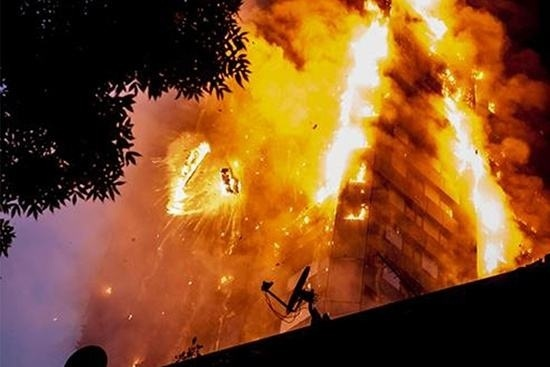fire: (425, 6, 519, 267), (317, 5, 407, 216), (163, 137, 246, 216)
